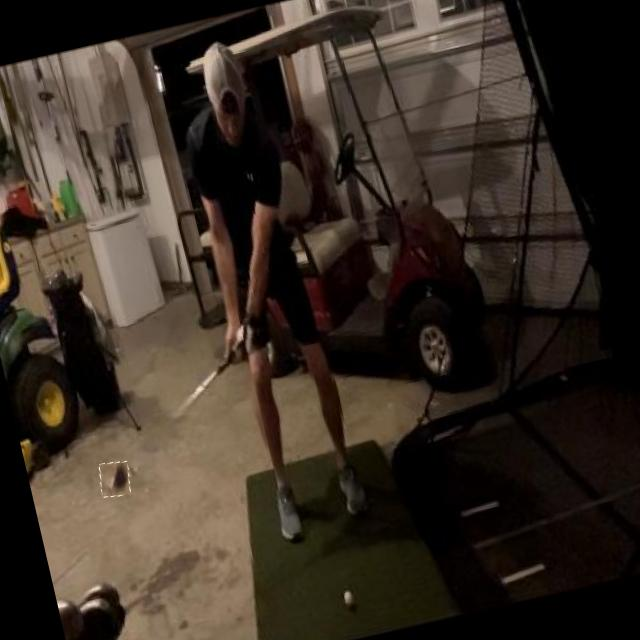club head: (96, 458, 133, 499)
